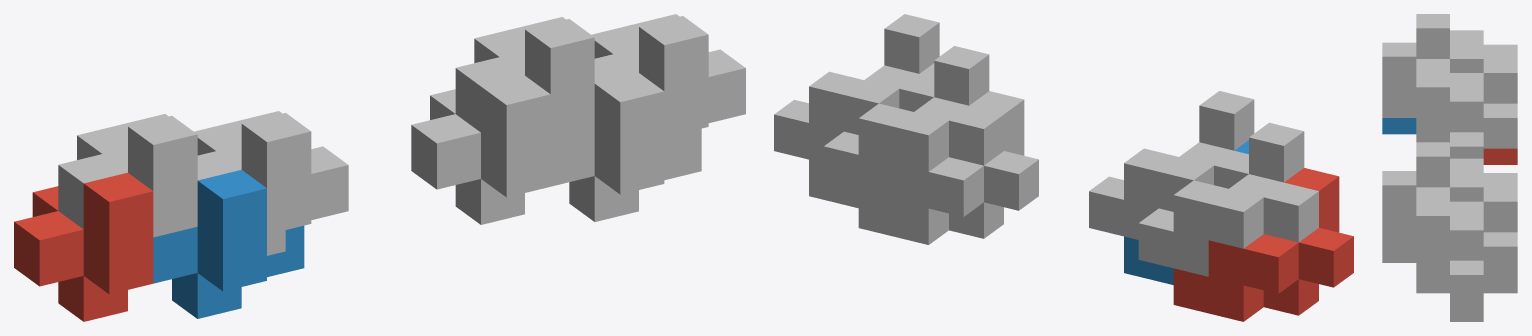
The model's file is tiling.obj.
3 views of the same model, side by side, from view 1: azimuth 30°, elevation 25°; view 2: azimuth 150°, elevation 25°; view 3: azimuth 270°, elevation 25° (orthographic). The views are drawn at different scales.
Parts seen in each view (by area): view 1: copy_1_domain_1, copy_1_domain_5, copy_1_domain_6, copy_1_domain_2, copy_1_domain_8, copy_1_domain_4, copy_1_domain_3, copy_1_domain_7; view 2: copy_1_domain_3, copy_1_domain_7, copy_1_domain_1, copy_1_domain_5, copy_1_domain_8, copy_1_domain_4, copy_1_domain_6, copy_1_domain_2; view 3: copy_1_domain_8, copy_1_domain_4, copy_1_domain_7, copy_1_domain_3, copy_1_domain_6, copy_1_domain_1, copy_1_domain_2, copy_1_domain_5.
Part boxes in pixels (<box>): copy_1_domain_1: <box>14,172,153,321</box>; copy_1_domain_5: <box>411,76,550,224</box>; copy_1_domain_6: <box>550,73,701,221</box>; copy_1_domain_2: <box>153,170,304,318</box>; copy_1_domain_8: <box>591,14,745,158</box>; copy_1_domain_4: <box>194,111,348,255</box>; copy_1_domain_3: <box>58,114,197,237</box>; copy_1_domain_7: <box>455,17,594,140</box>; copy_1_domain_3: <box>1138,122,1318,276</box>; copy_1_domain_7: <box>823,46,1003,199</box>; copy_1_domain_1: <box>1173,168,1353,321</box>; copy_1_domain_5: <box>858,91,1038,244</box>; copy_1_domain_8: <box>774,14,939,162</box>; copy_1_domain_4: <box>1089,91,1254,239</box>; copy_1_domain_6: <box>809,63,934,208</box>; copy_1_domain_2: <box>1124,140,1248,284</box>; copy_1_domain_8: <box>1382,171,1483,305</box>; copy_1_domain_4: <box>1382,42,1483,158</box>; copy_1_domain_7: <box>1416,142,1517,276</box>; copy_1_domain_3: <box>1416,14,1517,148</box>; copy_1_domain_6: <box>1382,246,1483,321</box>; copy_1_domain_1: <box>1483,148,1517,164</box>; copy_1_domain_2: <box>1382,118,1416,134</box>; copy_1_domain_5: <box>1483,277,1517,293</box>.
Bounding box in the file's own units: 16 × 4 × 4.
